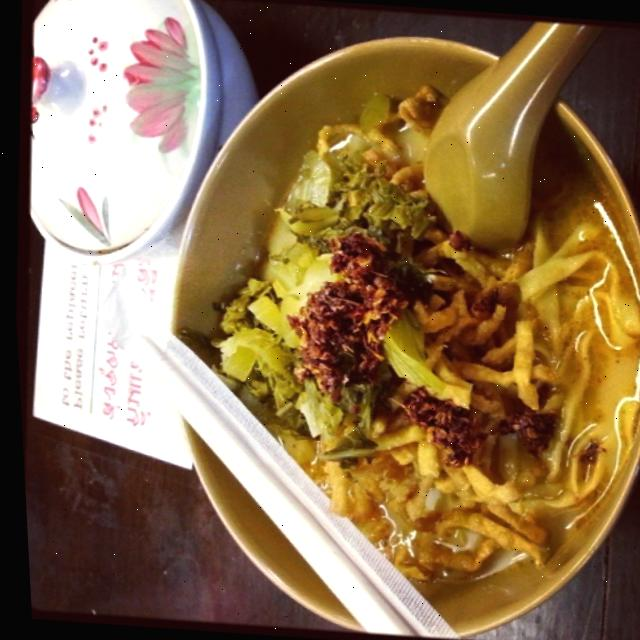面条主食: (114, 11, 640, 640)
